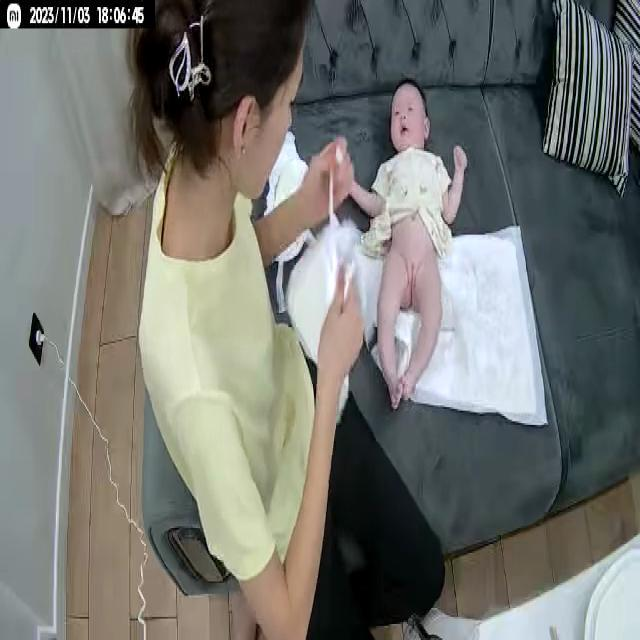baby: (338, 72, 472, 413)
